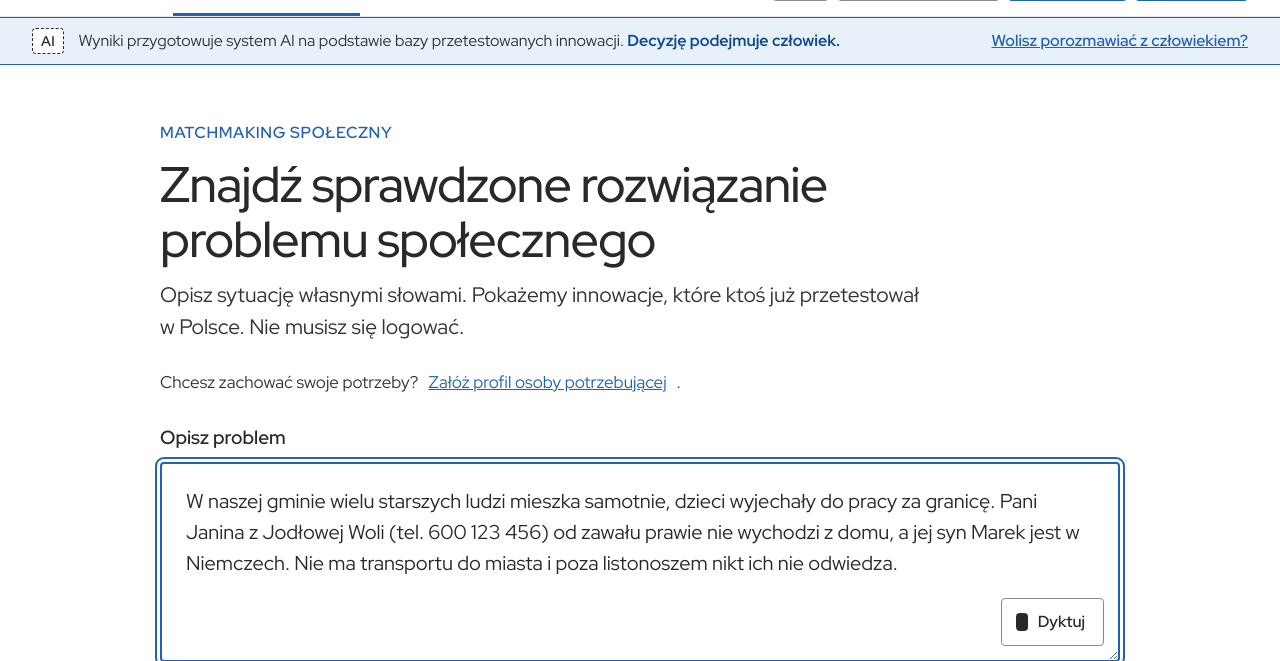
Test: M2 preview › shows own text unchanged with nothing removed
Replace the text in the text box labelled "Opisz problem" with "W naszej wsi młodzież po lekcjach nie ma gdzie się spotykać, a świetlica jest zamknięta od roku." at (640,562), box top-left (160, 462), bottom-right (1120, 660)
(page scrolled)
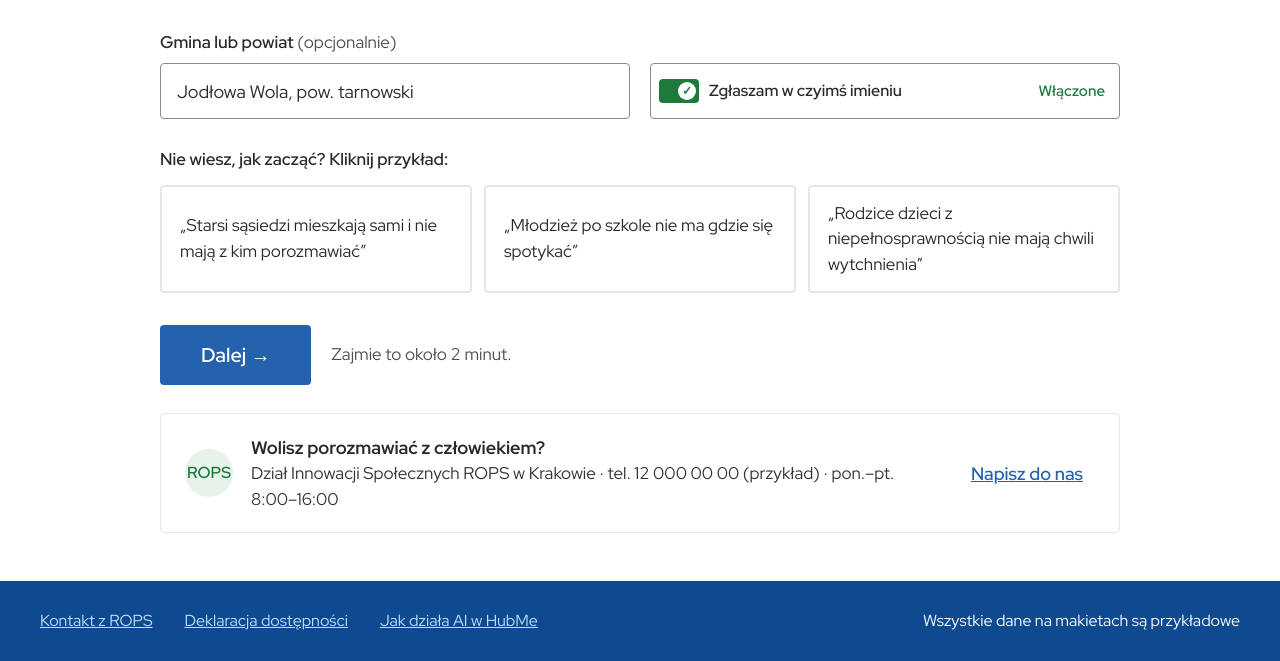
Click the button "Dalej →".
click(236, 355)  # box top-left (160, 325), bottom-right (311, 385)
(page scrolled)
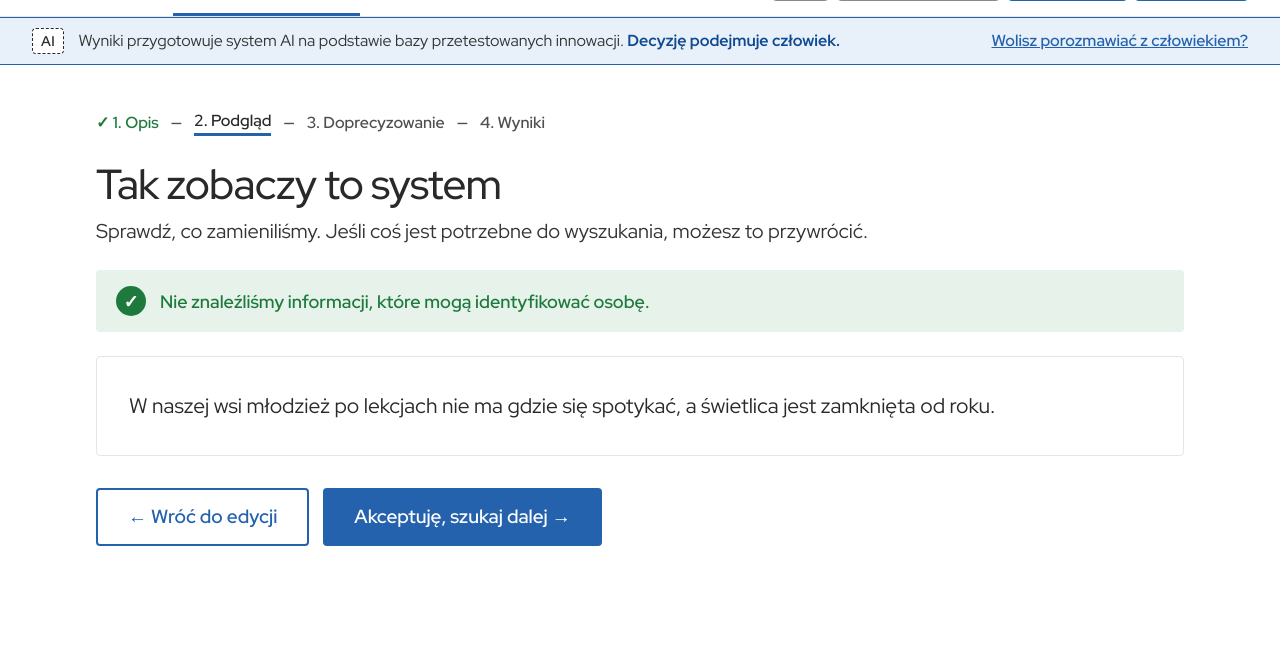
Check: the text "Nie znaleźliśmy informacji, które mogą identyfikować osobę." is shown, box top-left (160, 290), bottom-right (649, 313)
Check: the text "W naszej wsi młodzież po lekcjach nie ma gdzie się spotykać, a świetlica jest zamknięta od roku." is shown, box top-left (129, 392), bottom-right (995, 419)
